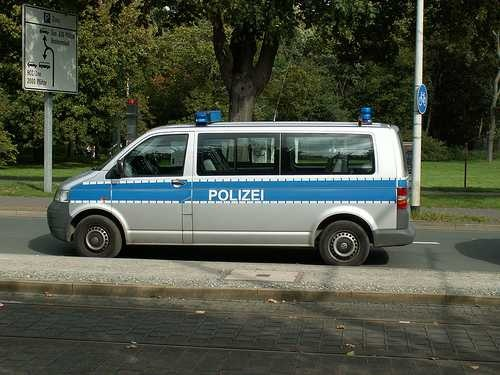Police Van: (46, 93, 421, 268)
